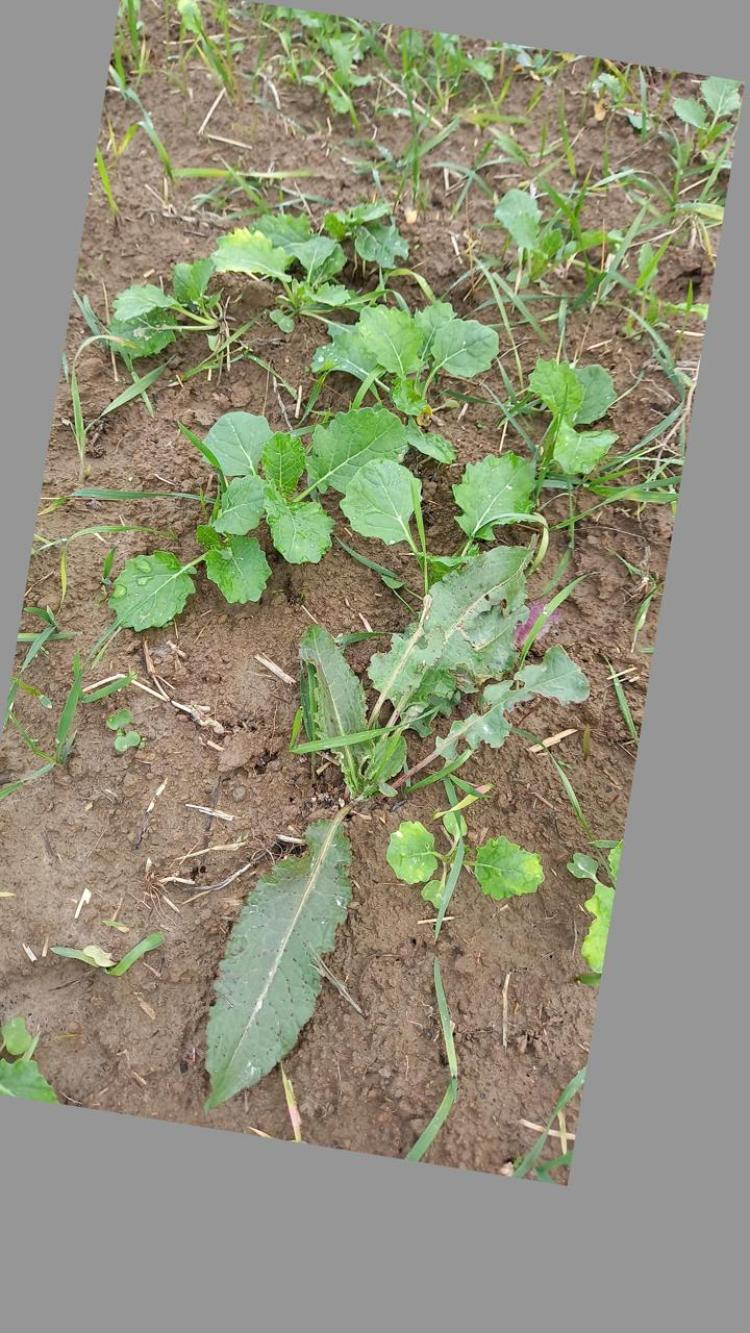zhavel: (210, 542, 596, 1108)
